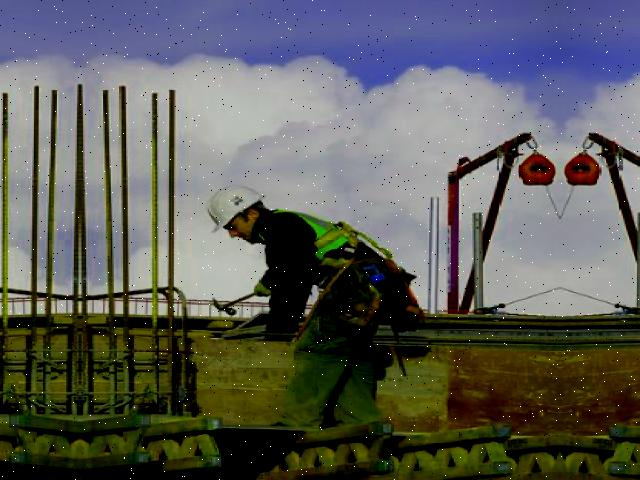Helmet: (204, 180, 272, 237)
